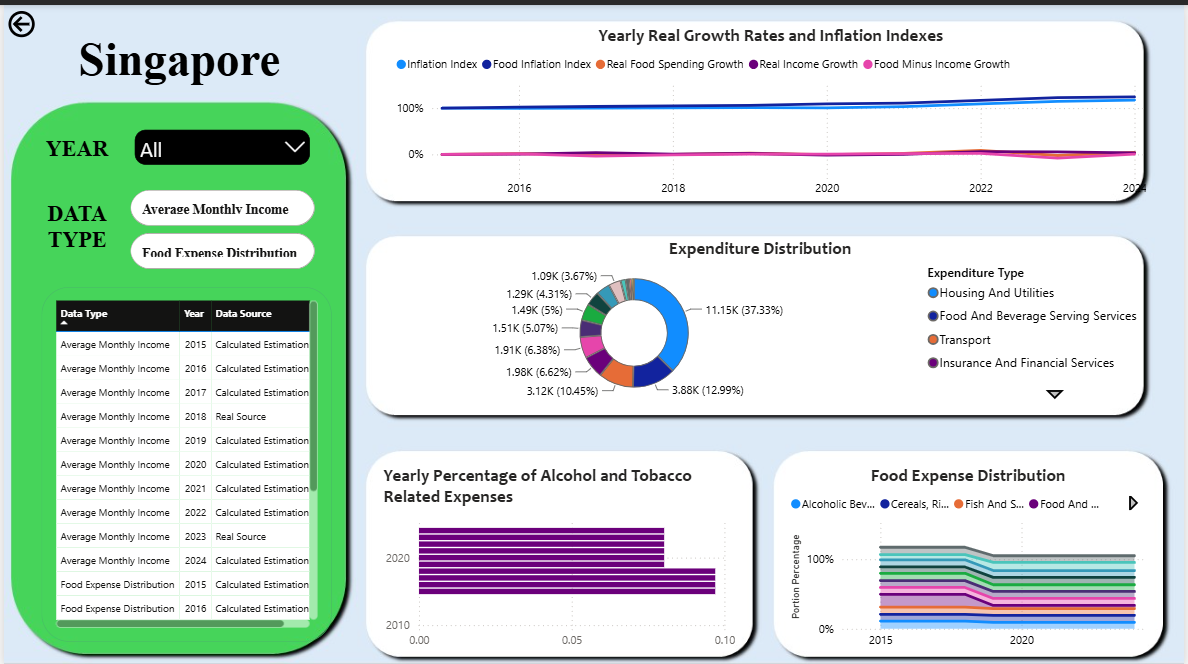

The page's visual inventory and layout, read from the dashboard file:
{"tool":"powerbi","page":{"name":"Drill","canvas":[1280,720],"ordinal":1},"visuals":[{"type":"tableEx","fields":{"Values":["Data Aquisition Method.Data Type","Data Aquisition Method.Year","Data Aquisition Method.Data Acquisition Method"]},"box":[12.7,321.3,314.9,384.9],"z":0},{"type":"stackedAreaChart","title":"Food Expense Distribution","fields":{"Y":["Sum(FED Pivot.Alcoholic Beverages And Tobacco )","Sum(FED Pivot.Cereals, Rice And Bakery Products)","Sum(FED Pivot.Fish And Seafood)","Sum(FED Pivot.Food And Non-Alcoholic Beverages N.E.C)","Sum(FED Pivot.Fruits, Vegetables And Nuts)","Sum(FED Pivot.Meats, Poultry, Fish, And Eggs)","Sum(FED Pivot.Milk, Other Dairy Products And Eggs)","Sum(FED Pivot.Non-Alcoholic Beverages)","Sum(FED Pivot.Oils And Fats)","Sum(FED Pivot.Other Food At Home)","Sum(FED Pivot.Ready-Made Food And Other Food Products N.E.C.)","Sum(FED Pivot.Sugar, Confectionery And Desserts)"],"Category":["FED Pivot.Year"]},"box":[847.8,491.5,396.1,214.7],"z":1000},{"type":"clusteredBarChart","title":"Yearly Percentage of Alcohol and Tobacco Related Expenses","fields":{"Y":["Sum(FED Pivot.Alcoholic Beverages And Tobacco )"],"Category":["FED Pivot.Year"]},"box":[407.2,497.9,391.3,208.4],"z":2000},{"type":"donutChart","title":"Expenditure Distribution","fields":{"Category":["Average Monthly Expenditure.Type of expenditure"],"Y":["Sum(Average Monthly Expenditure.Expense Amount)"]},"box":[359.5,252.9,921,182.9],"z":3000},{"type":"lineChart","title":"Yearly Real Growth Rates and Inflation Indexes","fields":{"Category":["Growth Percentage.Year"],"Y":["Sum(Growth Percentage.Inflation )","Sum(Growth Percentage.Food Inflation)","Sum(Growth Percentage.Real Food Spending Growth)","Sum(Growth Percentage.Real Income Growth)","Sum(Growth Percentage.Food Minus Income Growth)"]},"box":[419.9,20.7,823.9,195.6],"z":4000},{"type":"cardVisual","fields":{"Data":["Min(Country Dim.Country)"]},"box":[0,0,354.7,116.1],"z":5000},{"type":"actionButton","box":[354.7,0,49.3,38.2],"z":6000},{"type":"advancedSlicerVisual","fields":{"Values":["Data Aquisition Method.Data Type"]},"box":[12.7,216.3,307,98.6],"z":7000},{"type":"slicer","fields":{"Values":["Year Dim.Year"]},"box":[19.1,157.5,300.6,58.9],"z":8000}]}

Visuals, with their boxes in screenshot pixels (x1, y1, x2, y2), scaled from the page's 1280x720 canvas onto the 1188x664 screenshot:
tableEx - Data Aquisition Method.Data Type x Data Aquisition Method.Year: region(12, 296, 304, 651)
"Food Expense Distribution" stackedAreaChart: region(787, 453, 1154, 651)
"Yearly Percentage of Alcohol and Tobacco Related Expenses" clusteredBarChart: region(378, 459, 741, 651)
"Expenditure Distribution" donutChart: region(334, 233, 1187, 402)
"Yearly Real Growth Rates and Inflation Indexes" lineChart: region(390, 19, 1154, 199)
cardVisual - Min(Country Dim.Country): region(0, 0, 329, 107)
actionButton: region(329, 0, 375, 35)
advancedSlicerVisual - Data Aquisition Method.Data Type: region(12, 199, 297, 290)
slicer - Year Dim.Year: region(18, 145, 297, 200)
